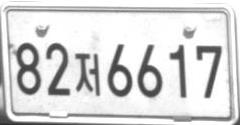1: (166, 44, 192, 98)
2: (45, 42, 70, 96)
6: (136, 43, 163, 98), (107, 43, 133, 97)
7: (195, 45, 222, 98)
8: (15, 41, 42, 95)
저: (74, 52, 100, 97)
